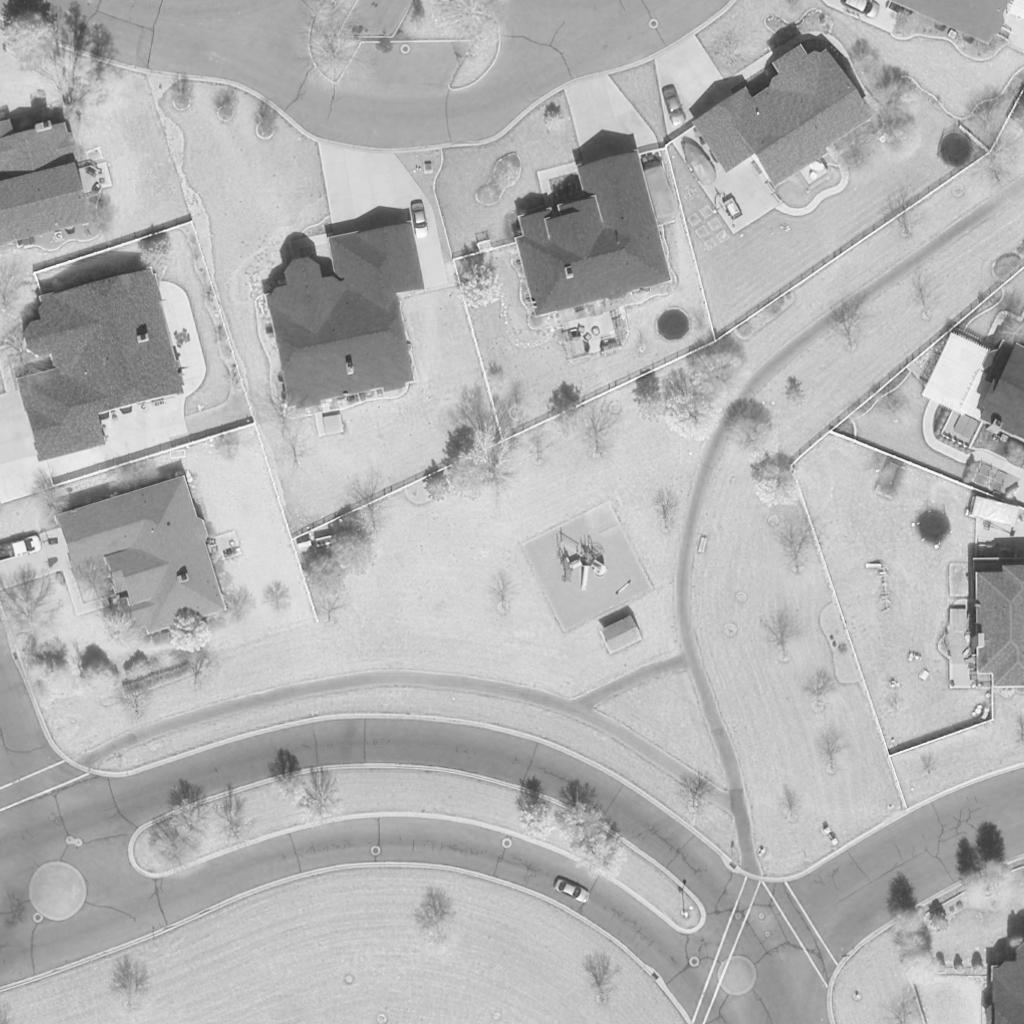vehicle: (676, 136, 720, 188), (0, 532, 45, 564), (659, 84, 689, 126), (552, 876, 590, 906), (840, 0, 882, 23), (409, 201, 431, 239)
